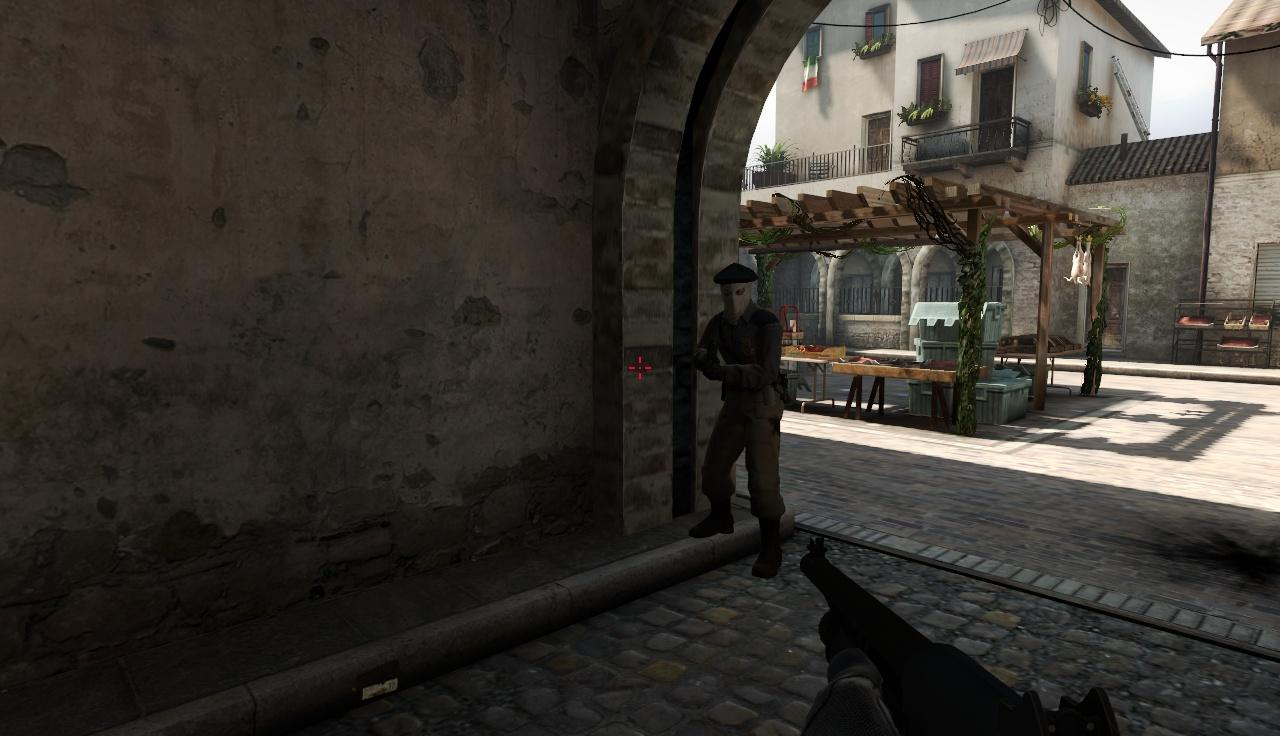shotgun: (793, 537, 1116, 736)
tt: (705, 267, 785, 567)
tthead: (720, 266, 756, 318)
